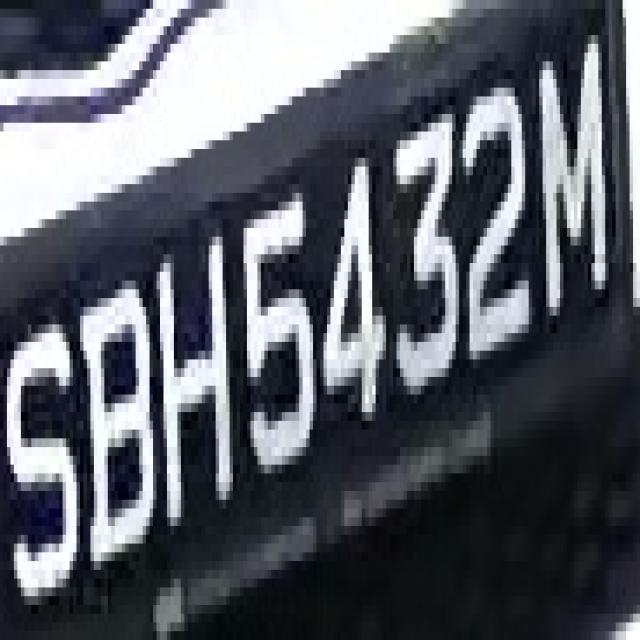2: (448, 44, 542, 368)
3: (379, 96, 463, 394)
4: (302, 114, 390, 438)
5: (226, 166, 317, 508)
B: (66, 263, 164, 605)
H: (146, 210, 240, 535)
M: (518, 18, 616, 333)
S: (3, 298, 87, 623)
